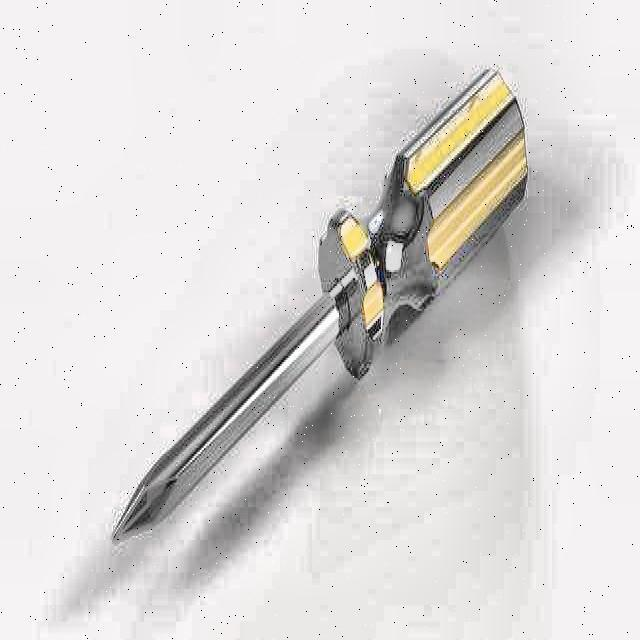screwdriver: (112, 67, 530, 542)
